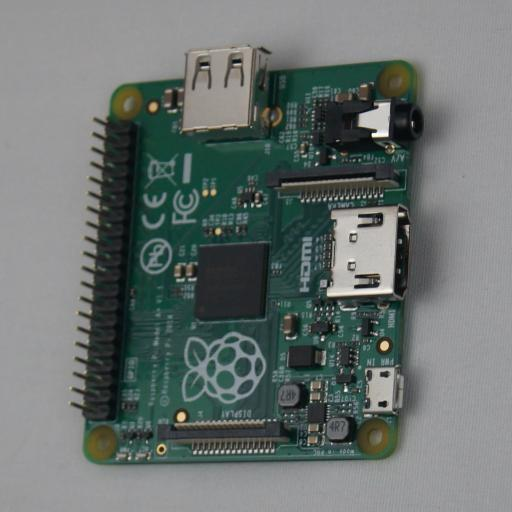Raspberry Pi A-: (71, 45, 442, 465)
